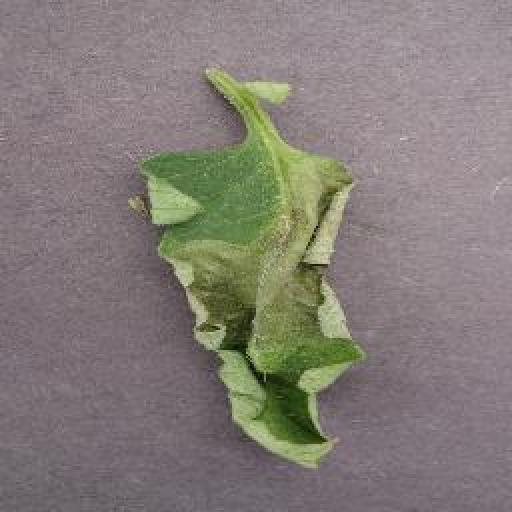disease_tomato: (136, 134, 372, 474)
